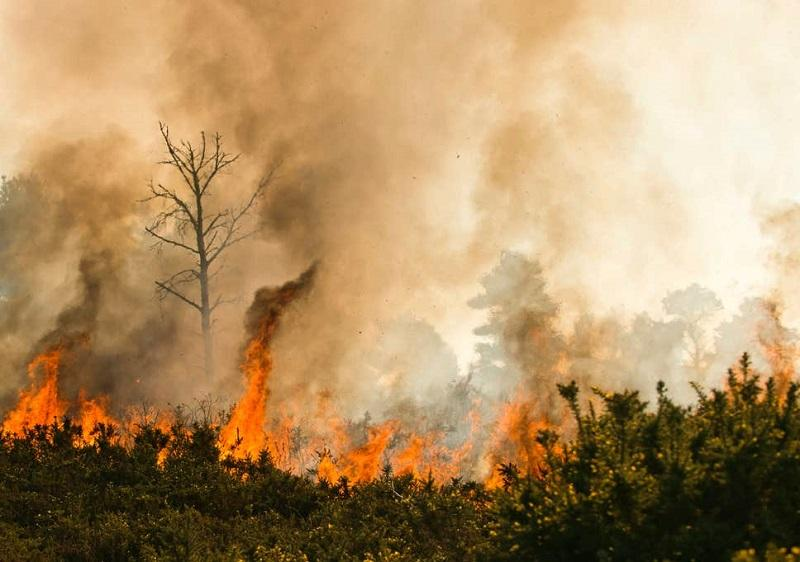fire: (16, 364, 582, 498)
